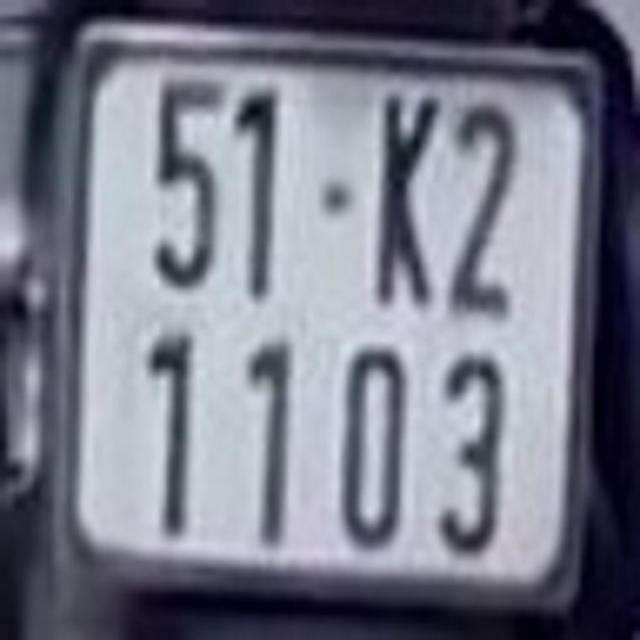0: (337, 338, 402, 543)
1: (134, 330, 197, 537), (245, 344, 294, 560), (234, 94, 281, 300)
2: (453, 97, 513, 314)
3: (437, 338, 506, 553)
5: (152, 76, 224, 284)
K: (371, 91, 442, 304)
